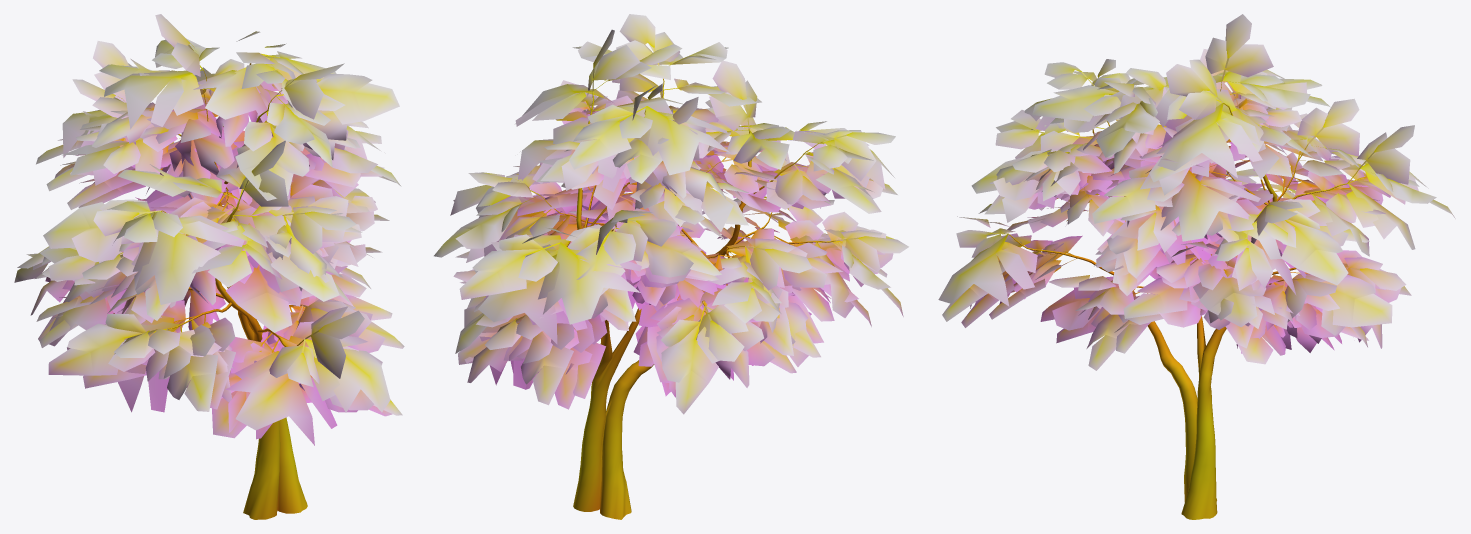
The model's file is ChinaberryTest01.glb.
3 views of the same model, side by side, from view 1: azimuth 30°, elevation 25°; view 2: azimuth 150°, elevation 25°; view 3: azimuth 270°, elevation 25° (orthographic). The views are drawn at different scales.
Visible parts, largest first — view 1: Chinaberry_Leaves, Chinaberry; view 2: Chinaberry_Leaves, Chinaberry; view 3: Chinaberry_Leaves, Chinaberry.
Boxes of the visible parts, bbox=[...] form: Chinaberry_Leaves: bbox=[14, 14, 404, 445]; Chinaberry: bbox=[161, 63, 307, 519]; Chinaberry_Leaves: bbox=[434, 14, 908, 414]; Chinaberry: bbox=[539, 78, 835, 519]; Chinaberry_Leaves: bbox=[938, 14, 1455, 370]; Chinaberry: bbox=[1008, 80, 1359, 519].
Bounding box in the file's own units: 7.74 × 9.15 × 9.49.
